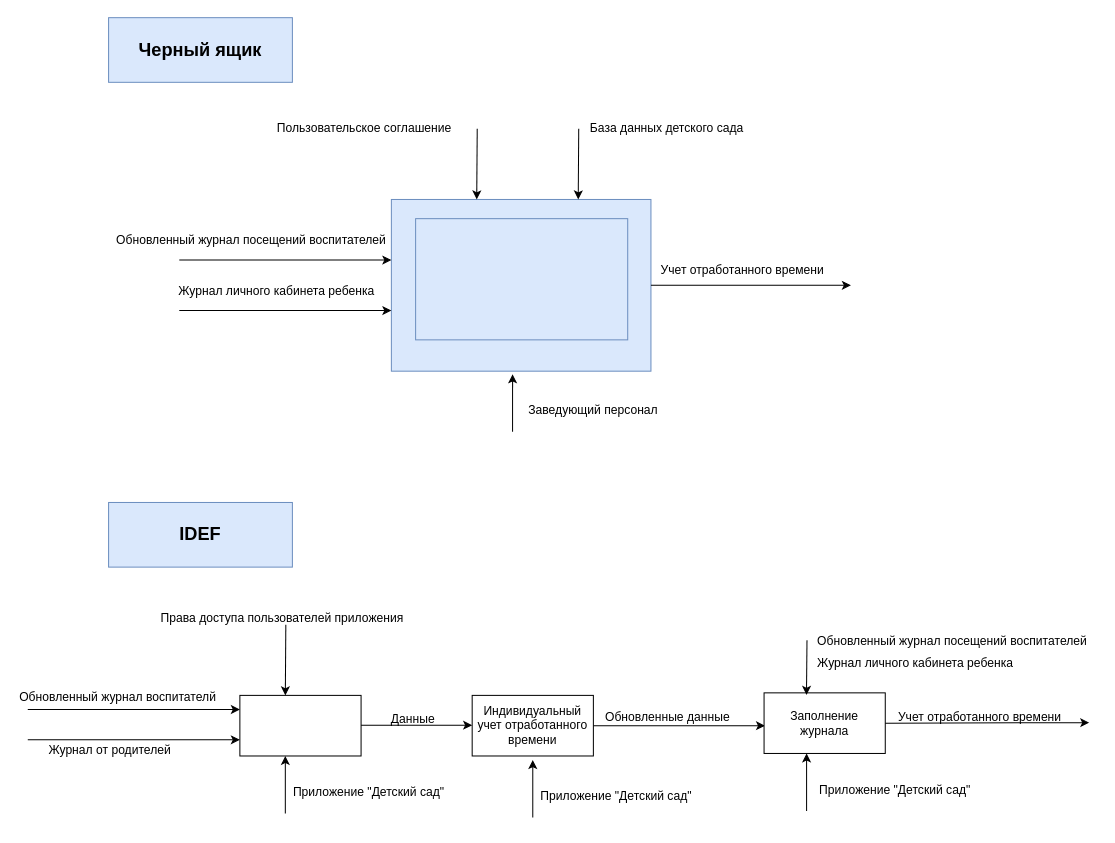
The diagram is 1115 pixels wide and 843 high, and some of its shapes have lost their labels. Each missing label, with the box of its shape:
Заведующий: (415, 218, 628, 340)
Обработка данных: (239, 694, 361, 756)
